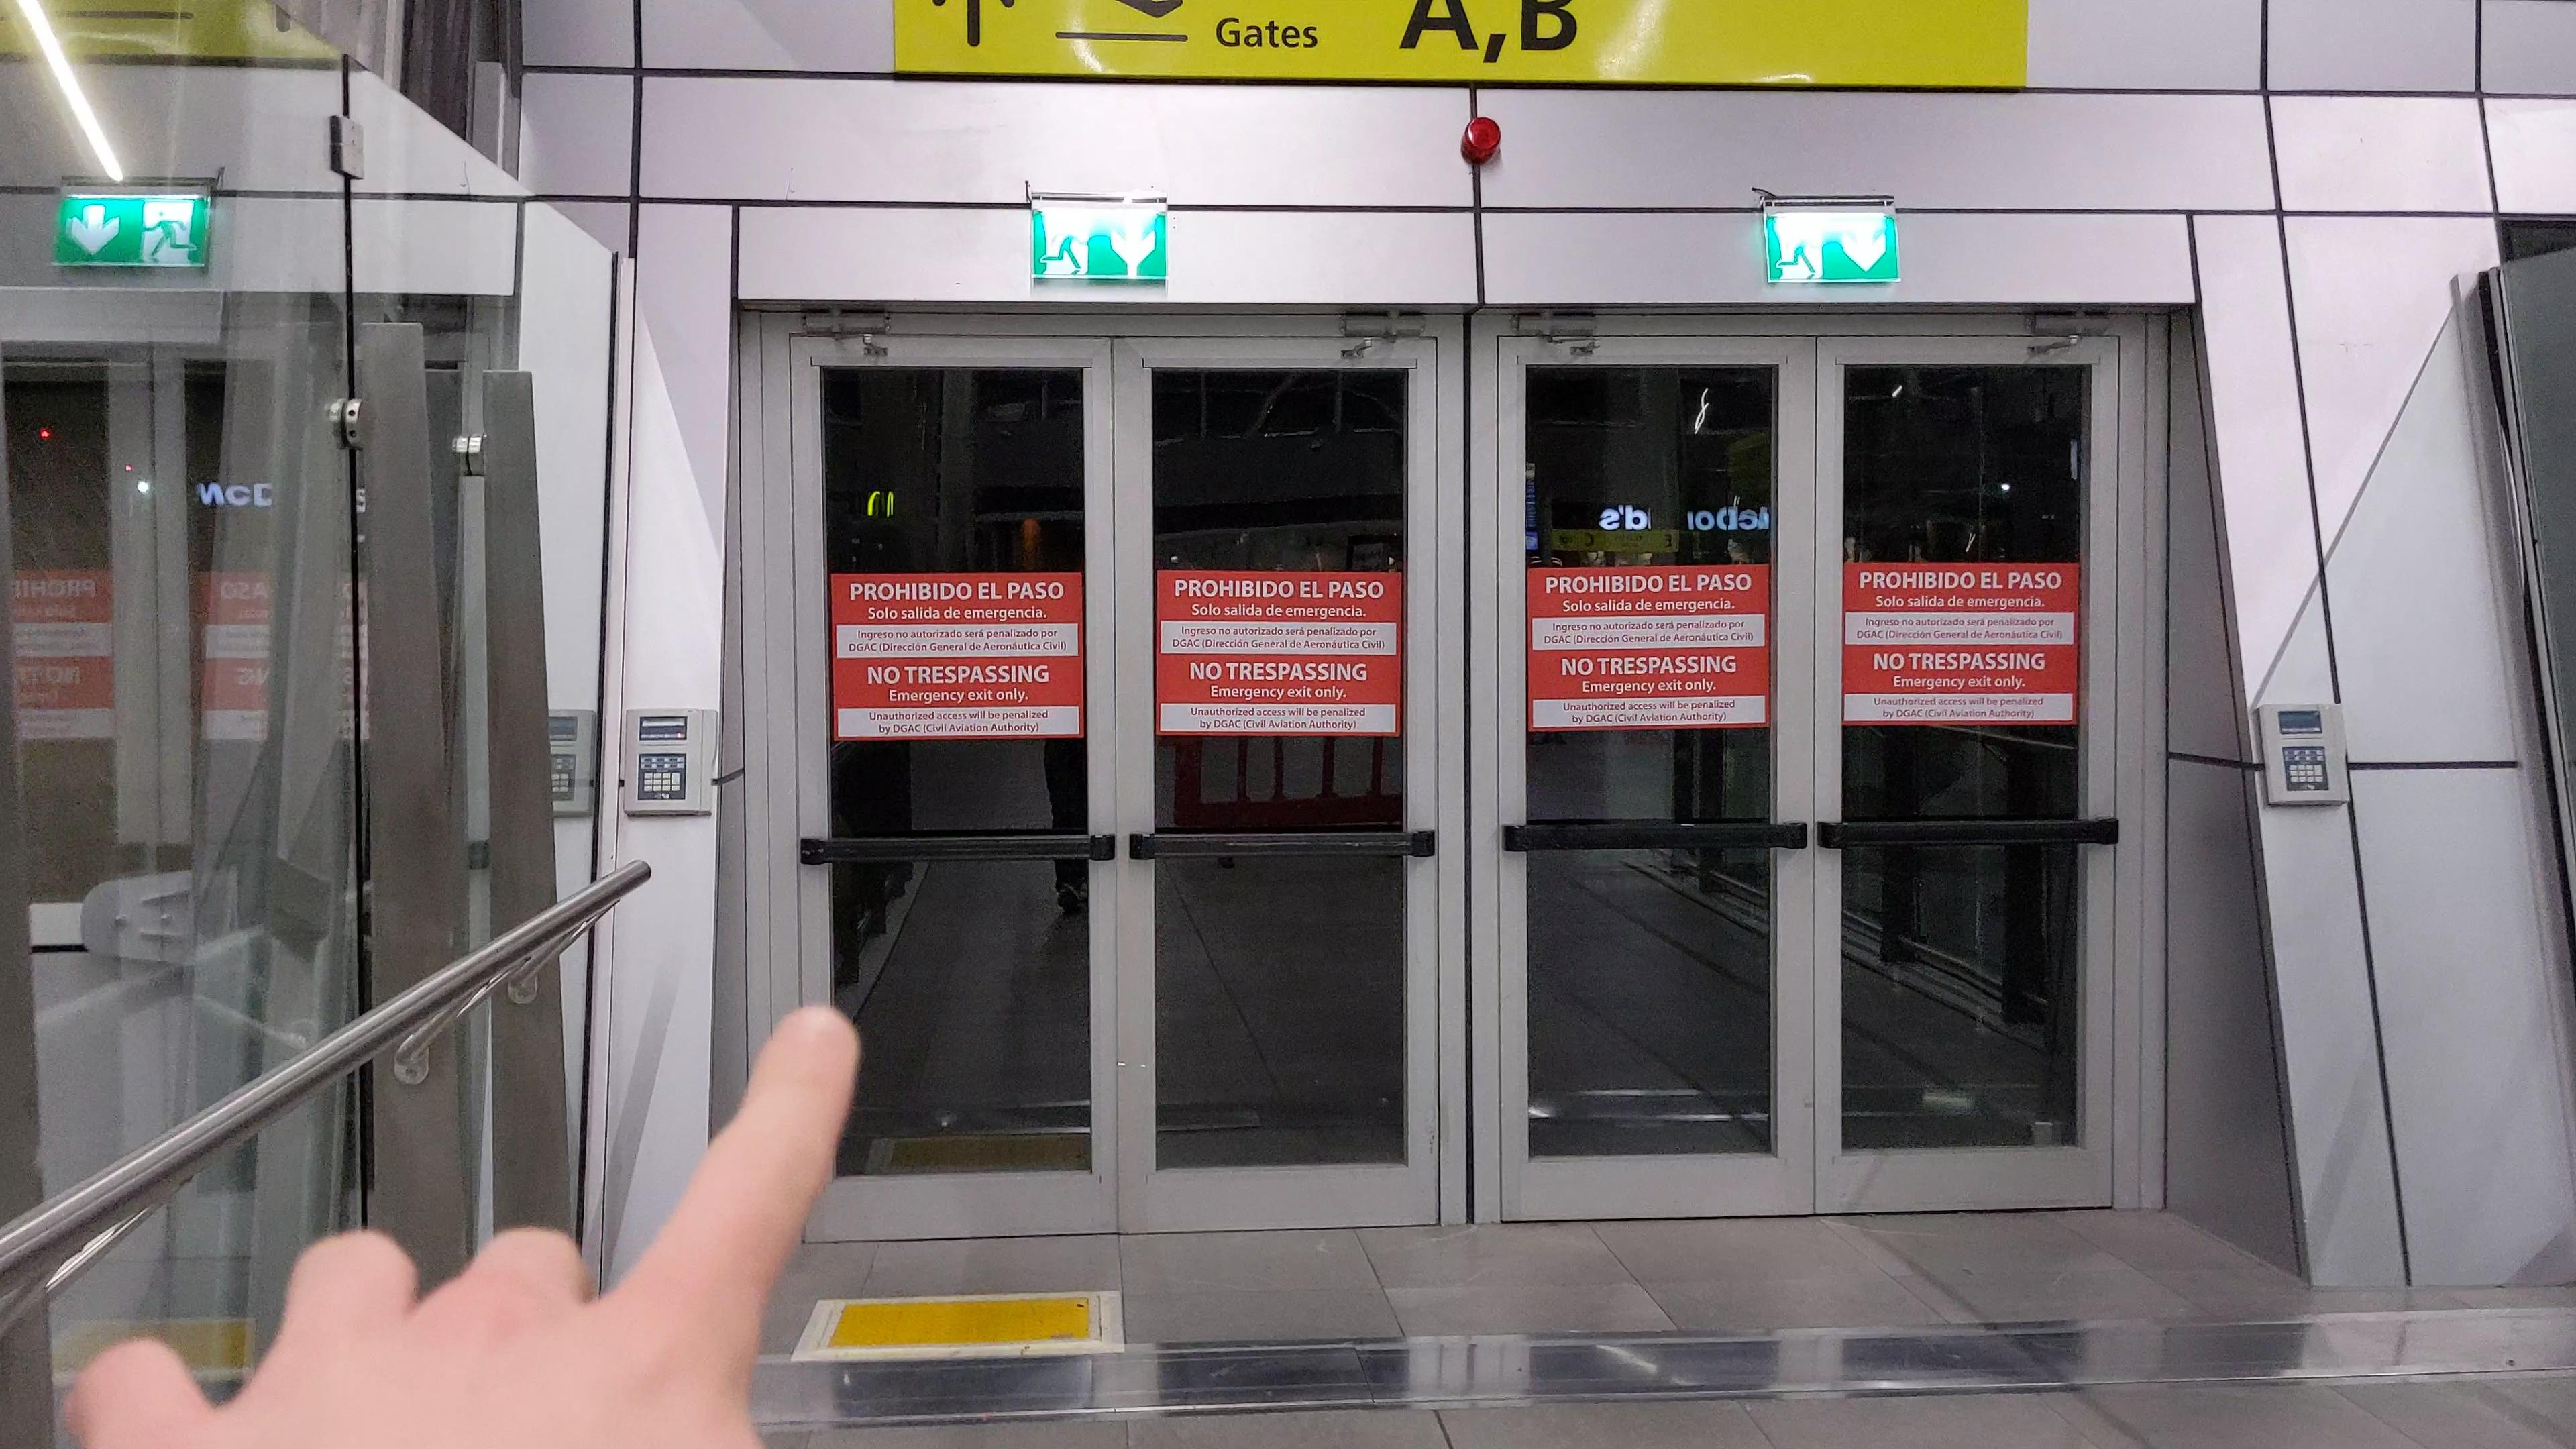down arrow: (1107, 224, 1162, 273)
emergency down arrow: (57, 208, 125, 259), (1838, 222, 1890, 274)
emergency exit: (126, 203, 199, 268), (1774, 223, 1827, 278), (1040, 223, 1089, 280)
no trespassing: (1150, 572, 1411, 727), (836, 573, 1091, 729), (1530, 568, 1771, 727), (1840, 570, 2088, 722), (9, 576, 128, 741)
